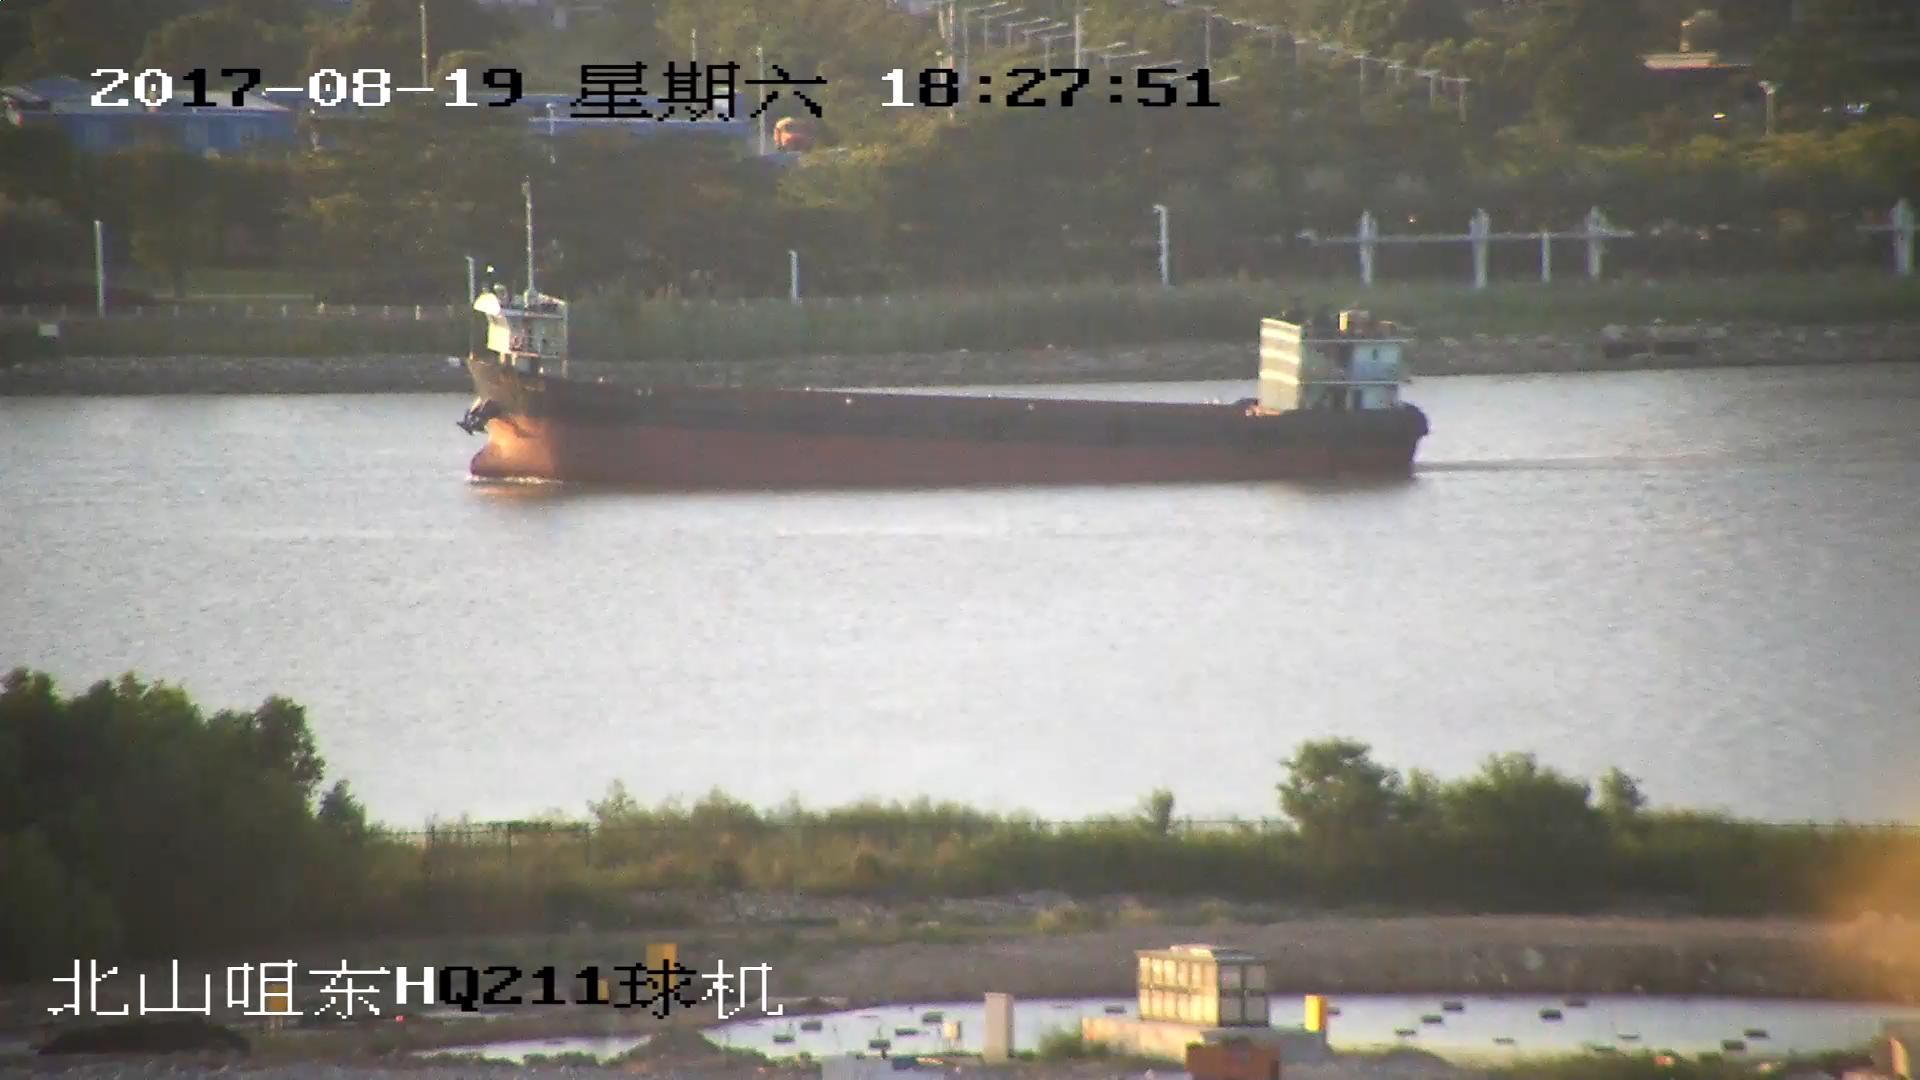general cargo ship: (459, 277, 1421, 492)
